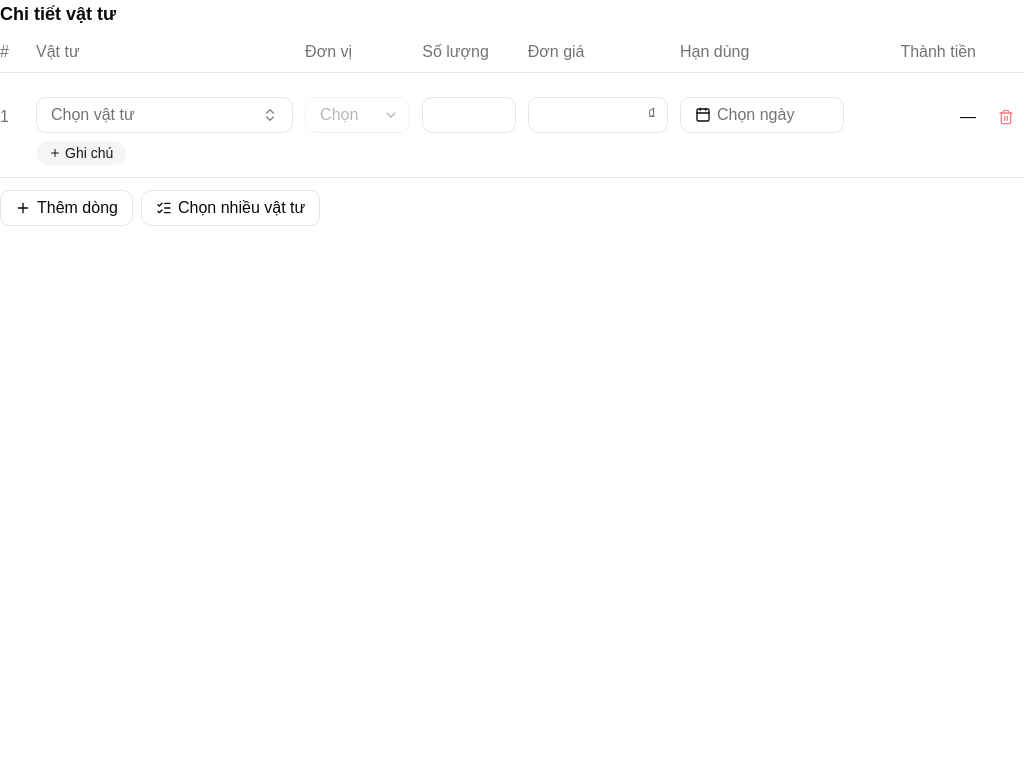
Test case: ImportFormItemsField › gõ "thép" → hỏi BE theo tên; chọn vật tư chỉ có trong kết quả tìm vẫn có nhãn, tồn và đơn vị
Click the dropdown named "Vật tư dòng 1".
click(165, 115)  # box left=36, top=97, right=293, bottom=133
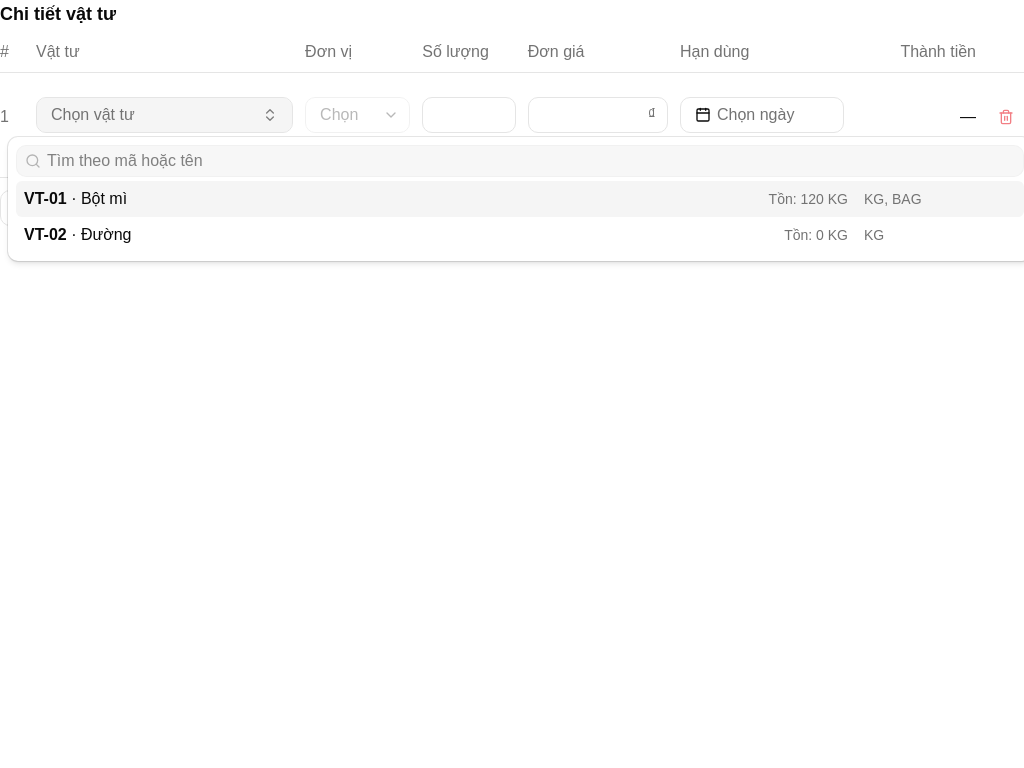
Type "thép" into the dropdown labelled "Tìm theo mã hoặc tên".
click(532, 161); type("thép")  # box left=41, top=149, right=1023, bottom=173
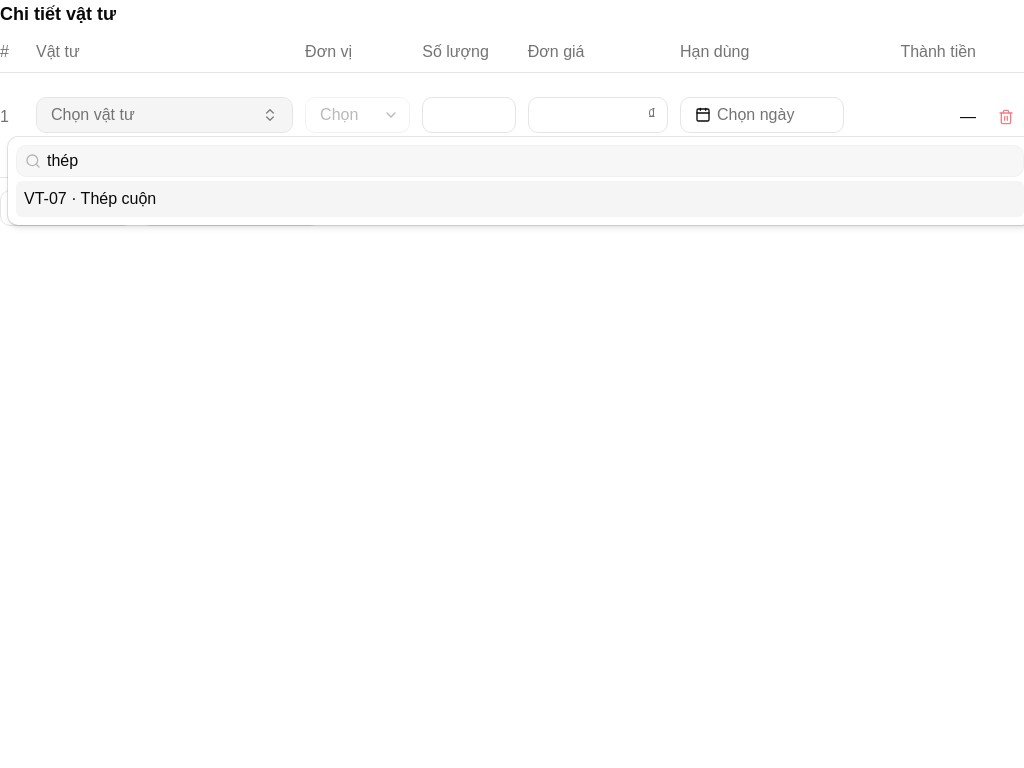
Click the option "VT-07 · Thép cuộn".
click(90, 198)  # box left=16, top=181, right=1023, bottom=217
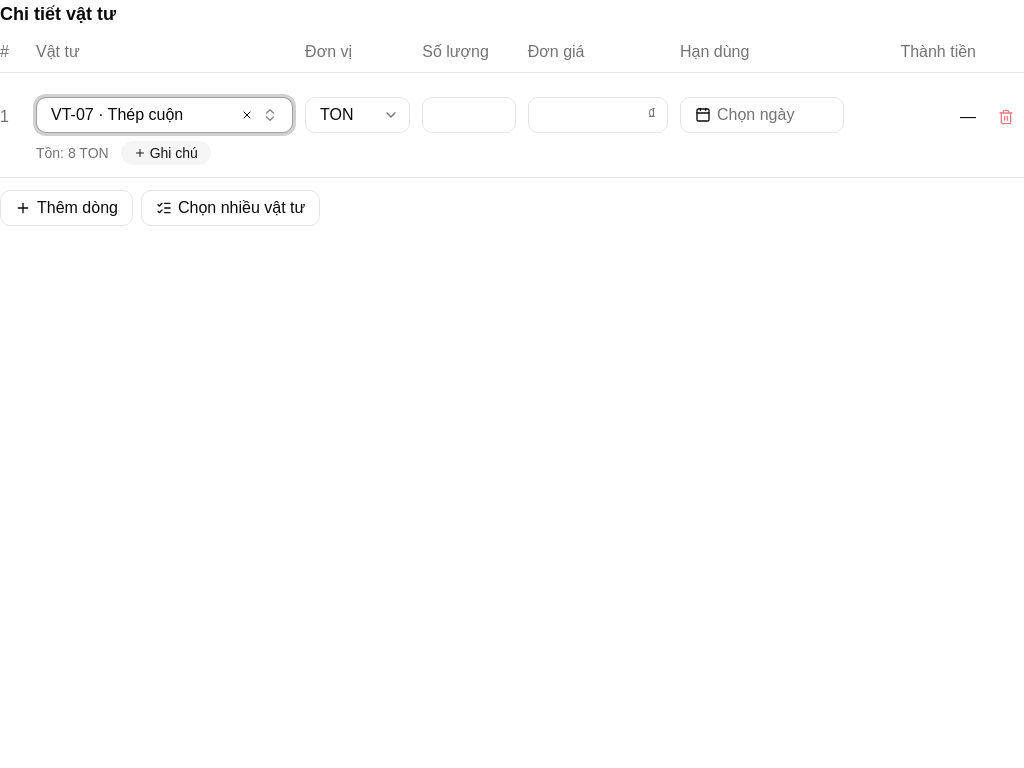
Check: the dropdown named "Vật tư dòng 1" reads "VT-07 · Thép cuộn", box left=36, top=97, right=293, bottom=133
Check: the text "Tồn: 8 TON" is shown, box left=36, top=143, right=109, bottom=163
Check: the text "TON" is shown, box left=320, top=103, right=354, bottom=127
